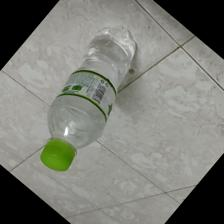Dasani: (40, 22, 137, 170)
